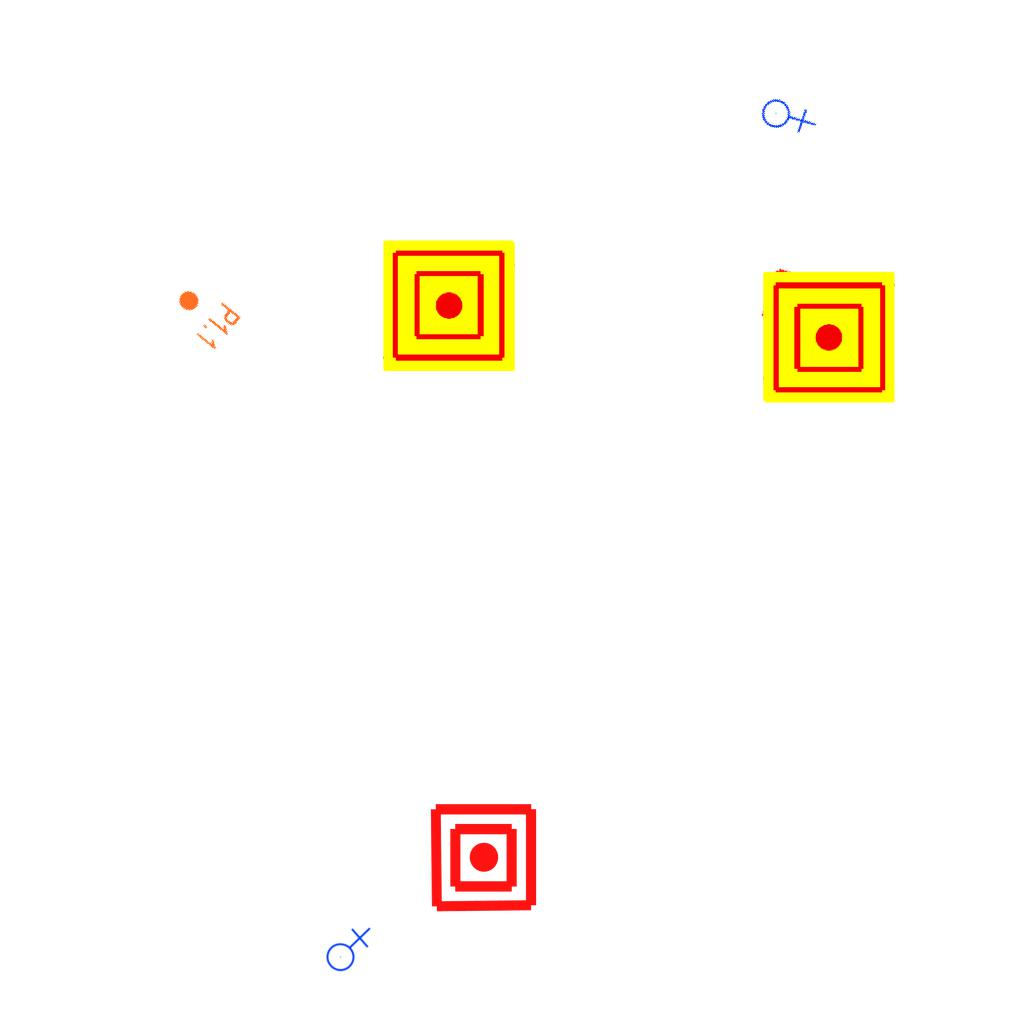Downlight_LED_Einbauleuchten_Flur: (164, 276, 244, 354)
Elektroanschluss_allgemein_230V_Geraeteanschlussdose_230V: (753, 81, 820, 148), (322, 925, 371, 972)
NAM-Nichtautomatischer_Melder: (383, 240, 515, 372), (763, 271, 895, 403), (427, 801, 540, 914), (758, 265, 830, 337)
